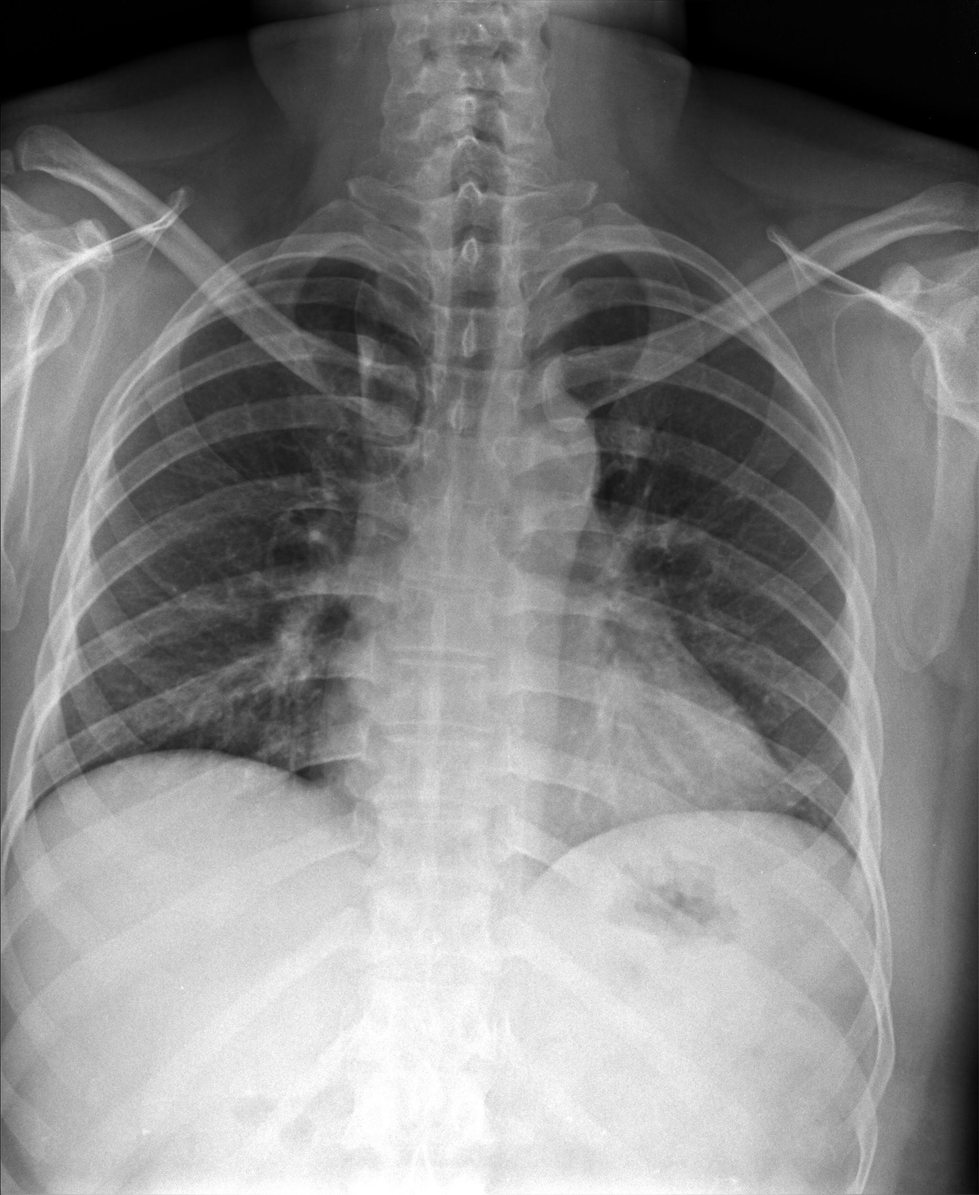Aortic enlargement: (490, 386, 603, 504)
Cardiomegaly: (311, 680, 799, 809)
